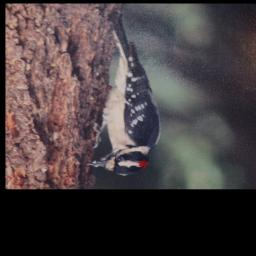Woodpecker: (86, 13, 164, 179)
